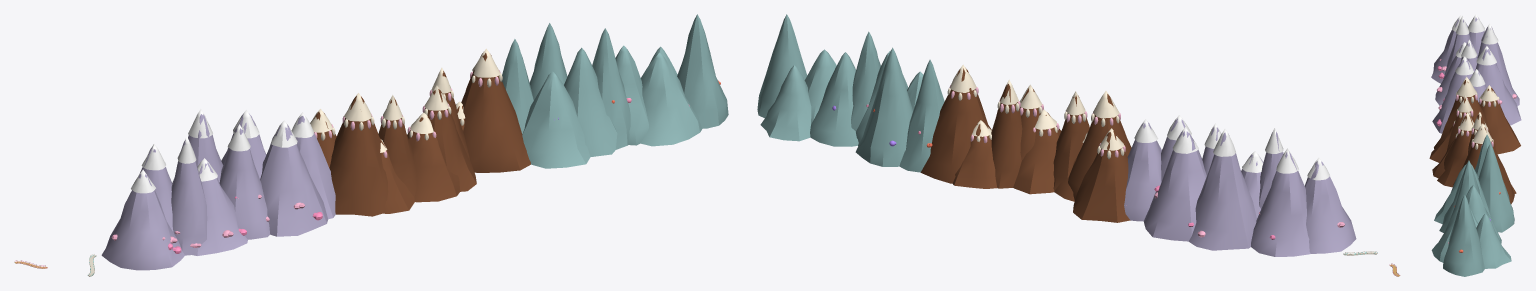
The model's file is Layout_Pack.fbx.
3 views of the same model, side by side, from view 1: azimuth 30°, elevation 25°; view 2: azimuth 150°, elevation 25°; view 3: azimuth 270°, elevation 25° (orthographic). The views are drawn at different scales.
Parts seen in each view (by area): view 1: ReefRange__Rock__8FB8B8SP, SakuraRange__Rock__B7AECFSP, CandyRange__Rock__7A4A2ESP, SakuraRange__Cap__FFFFFFSP, CandyRange__Cap__FFF3DCSP, CandyRange__Drips__FFC2DASP, CandyRange__Drips__FFF3DCSP; view 2: SakuraRange__Rock__B7AECFSP, ReefRange__Rock__8FB8B8SP, CandyRange__Rock__7A4A2ESP, SakuraRange__Cap__FFFFFFSP, CandyRange__Cap__FFF3DCSP, CandyRange__Drips__FFC2DASP, CandyRange__Drips__FFF3DCSP; view 3: ReefRange__Rock__8FB8B8SP, CandyRange__Rock__7A4A2ESP, SakuraRange__Rock__B7AECFSP, SakuraRange__Cap__FFFFFFSP, CandyRange__Cap__FFF3DCSP, CandyRange__Drips__FFC2DASP, CandyRange__Drips__FFF3DCSP, SakuraRange__Blossom__FFB7D5SP, SakuraRange__Blossom__FF92C2SP.
Boxes of the visible parts, bbox=[...] form: ReefRange__Rock__8FB8B8SP: bbox=[502, 14, 728, 168]; SakuraRange__Rock__B7AECFSP: bbox=[101, 113, 335, 270]; CandyRange__Rock__7A4A2ESP: bbox=[313, 53, 530, 216]; SakuraRange__Cap__FFFFFFSP: bbox=[131, 109, 313, 193]; CandyRange__Cap__FFF3DCSP: bbox=[310, 48, 500, 152]; CandyRange__Drips__FFC2DASP: bbox=[314, 70, 500, 157]; CandyRange__Drips__FFF3DCSP: bbox=[321, 73, 502, 140]; SakuraRange__Rock__B7AECFSP: bbox=[1124, 118, 1356, 256]; ReefRange__Rock__8FB8B8SP: bbox=[757, 14, 944, 172]; CandyRange__Rock__7A4A2ESP: bbox=[920, 68, 1131, 222]; SakuraRange__Cap__FFFFFFSP: bbox=[1134, 115, 1329, 180]; CandyRange__Cap__FFF3DCSP: bbox=[950, 64, 1124, 150]; CandyRange__Drips__FFC2DASP: bbox=[949, 85, 1125, 157]; CandyRange__Drips__FFF3DCSP: bbox=[947, 88, 1124, 159]; ReefRange__Rock__8FB8B8SP: bbox=[1431, 134, 1514, 276]; CandyRange__Rock__7A4A2ESP: bbox=[1429, 80, 1520, 204]; SakuraRange__Rock__B7AECFSP: bbox=[1431, 17, 1521, 133]; SakuraRange__Cap__FFFFFFSP: bbox=[1452, 14, 1498, 86]; CandyRange__Cap__FFF3DCSP: bbox=[1454, 77, 1498, 143]; CandyRange__Drips__FFC2DASP: bbox=[1453, 94, 1499, 147]; CandyRange__Drips__FFF3DCSP: bbox=[1455, 92, 1499, 149]; SakuraRange__Blossom__FFB7D5SP: bbox=[1437, 59, 1516, 109]; SakuraRange__Blossom__FF92C2SP: bbox=[1436, 66, 1444, 126].
Size of the model in its own units: 2006 by 323 by 327.
